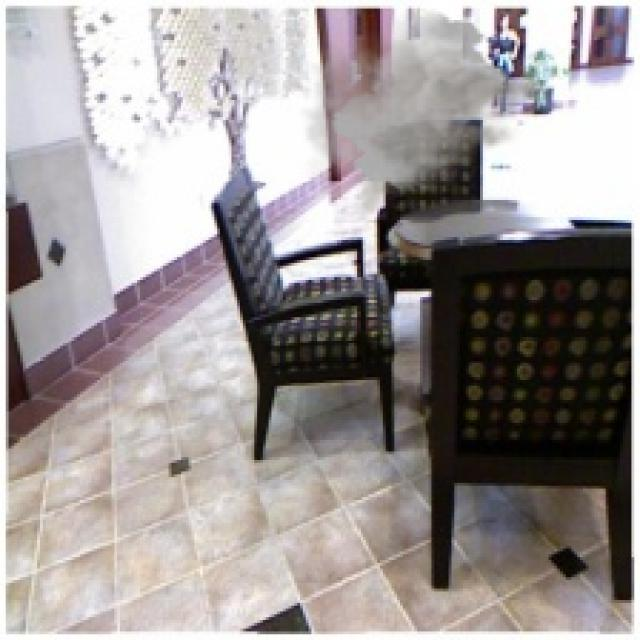smoke: (297, 9, 557, 220)
